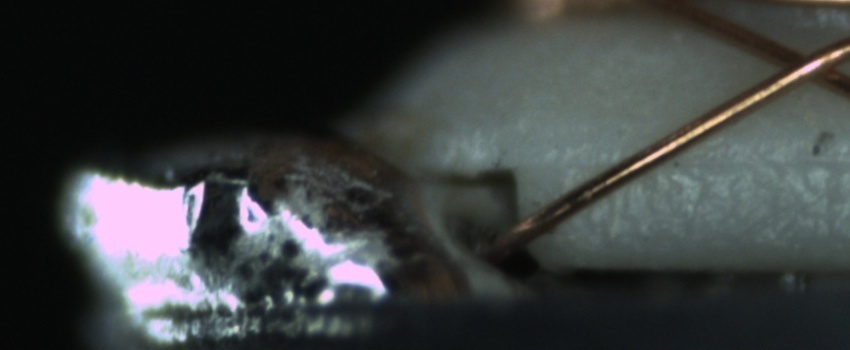CL: (755, 32, 847, 95)
DL: (568, 127, 850, 190)
